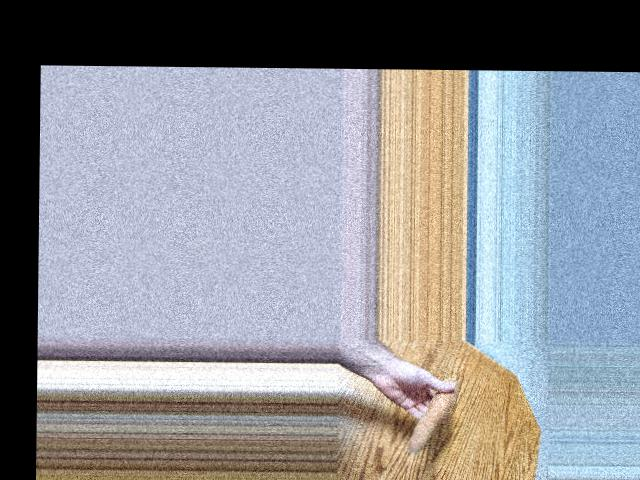sweet_potato: (407, 375, 459, 452)
